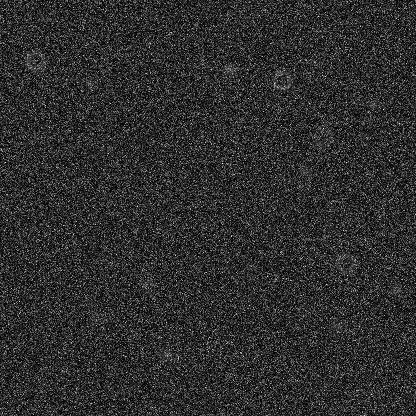Ring: (22, 48, 46, 72), (320, 226, 344, 250), (361, 386, 385, 410), (269, 67, 293, 91), (333, 251, 357, 275), (311, 124, 335, 148)
Spot: (82, 76, 98, 92), (364, 94, 380, 110), (222, 60, 238, 76), (328, 318, 344, 334), (298, 165, 314, 181), (140, 275, 156, 291), (88, 309, 104, 325), (99, 248, 115, 264), (307, 53, 323, 69), (158, 347, 174, 363), (388, 280, 404, 296)
